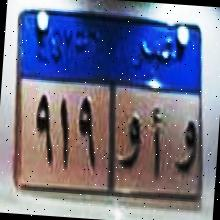9: (75, 92, 99, 166), (56, 94, 72, 172)
alif: (150, 106, 164, 176)
waw: (173, 118, 201, 178), (118, 116, 144, 173)
